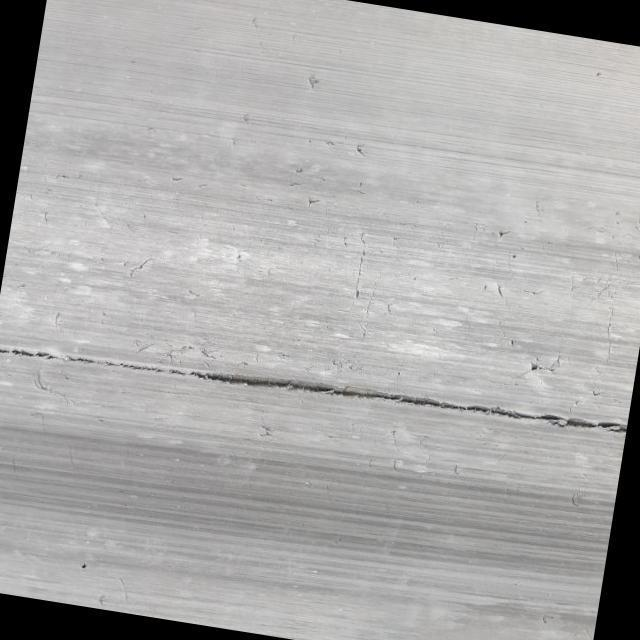Puncture: (525, 356, 543, 382)
Tear: (0, 340, 631, 445), (344, 216, 384, 306)
